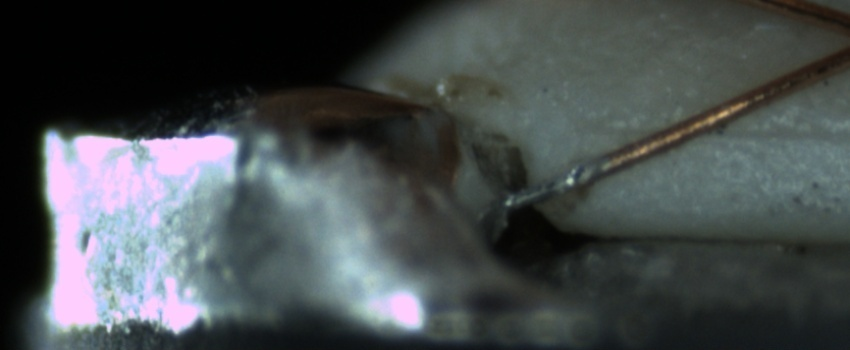DL: (608, 95, 846, 165)
TS: (499, 158, 606, 212)
TTCW: (500, 137, 649, 209)
